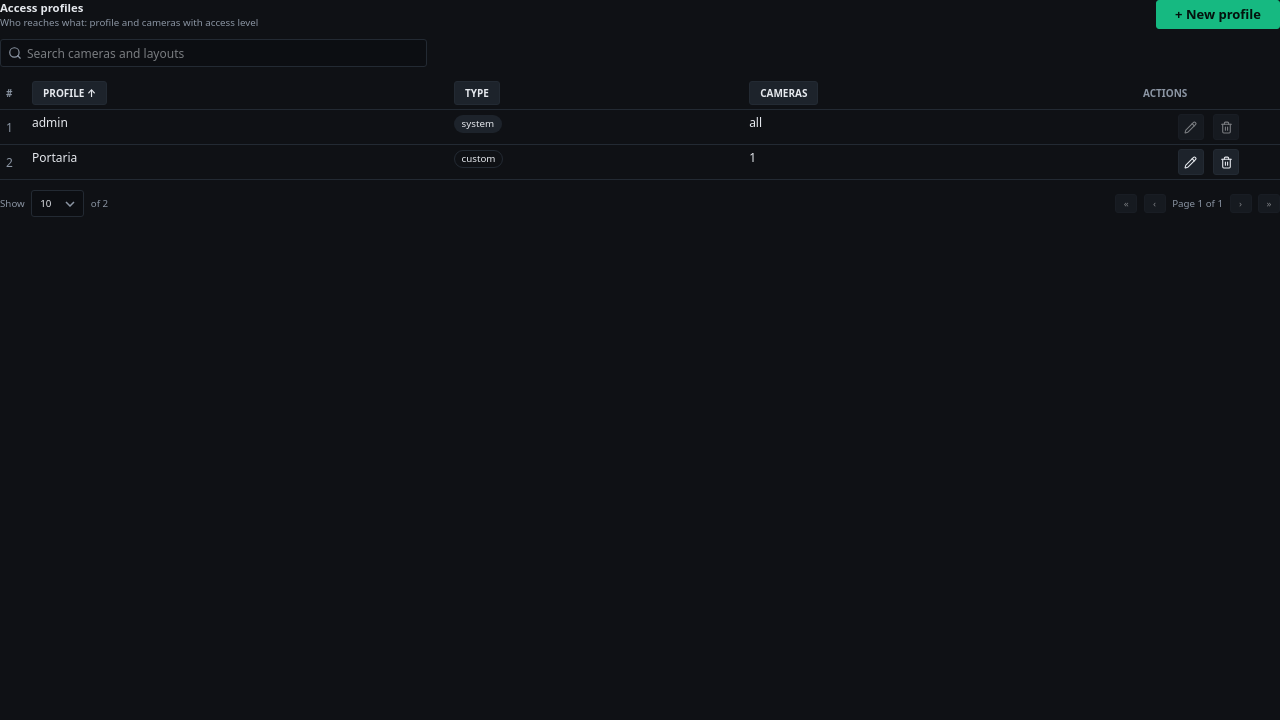
Test: ProfilesTable (spec 2026-10-18 4.4; grants on demand since 2026-10-20 §5) › a failed grants load keeps Save disabled and shows the error (no accidental wipe)
Check: the text "Portaria" is shown, box [32, 149, 77, 166]
Step 1. Click the button named "Edit Portaria" → [1191, 162], box [1178, 149, 1204, 175]
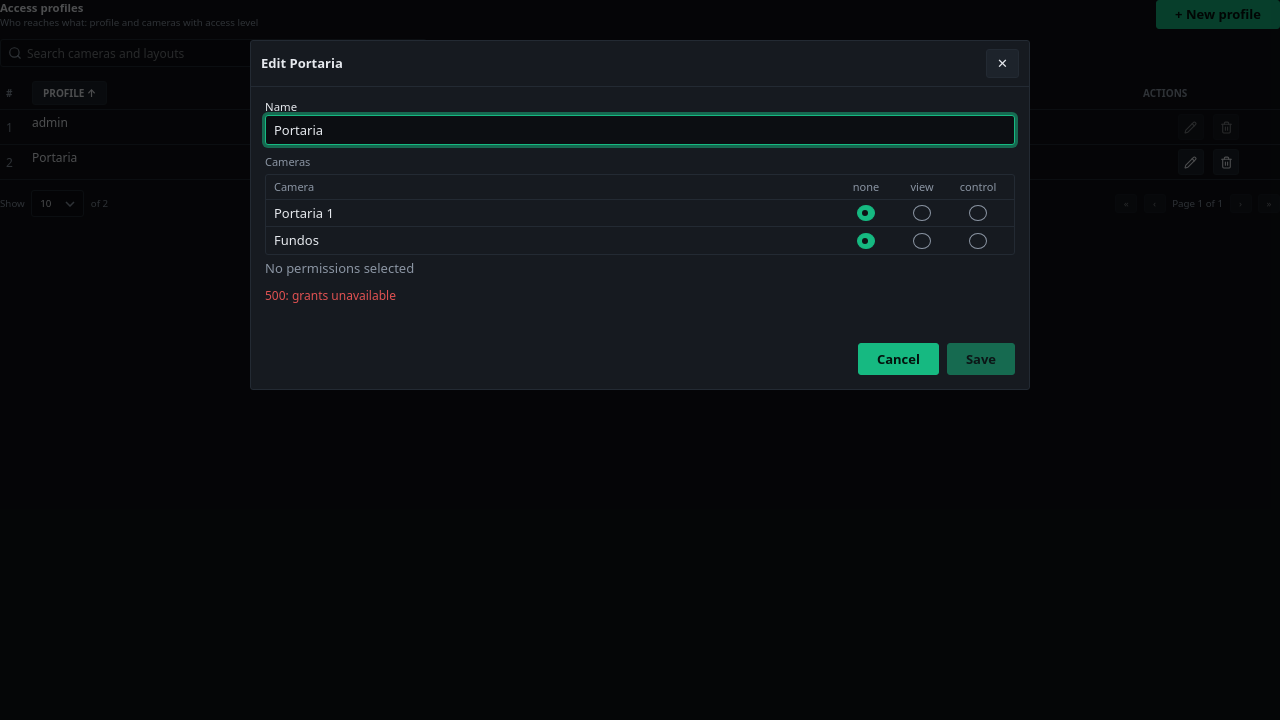
Check: the text "500: grants unavailable" is shown, box [265, 287, 396, 304]
Check: the button "Save" is disabled, box [947, 342, 1015, 375]
